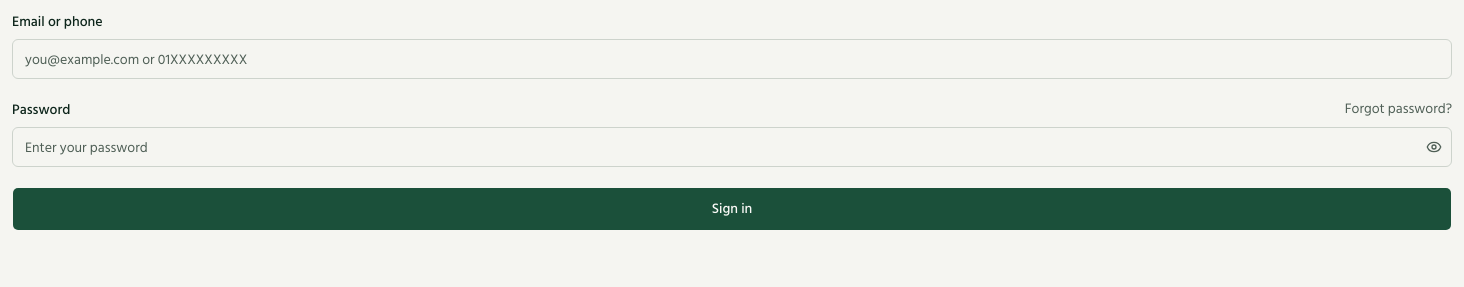
Scenario: LoginForm › shows the message for ACCOUNT_PENDING
Type "01712345678" into the field labelled "Email or phone" at (732, 59), box [12,39,1452,79]
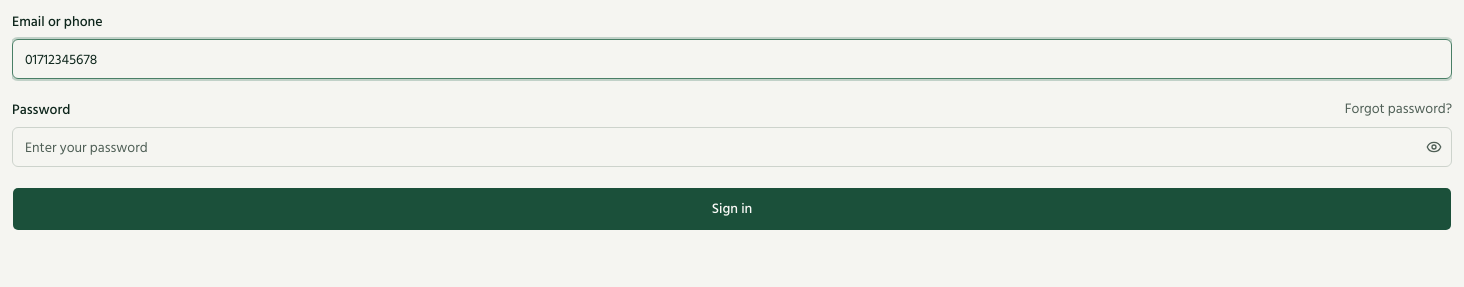
Type "secret" into the password field labelled "Password" at (716, 147), box [13,127,1420,167]
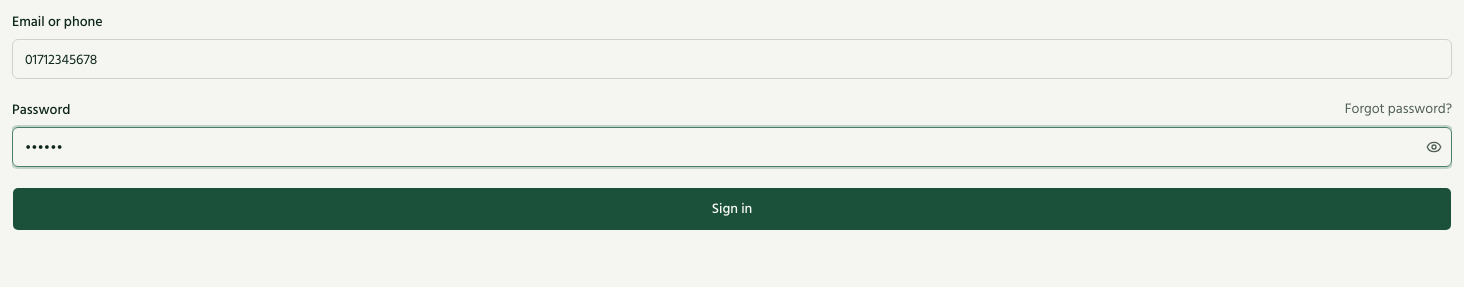
Click the button "Sign in" at (732, 209), box [12,187,1452,231]
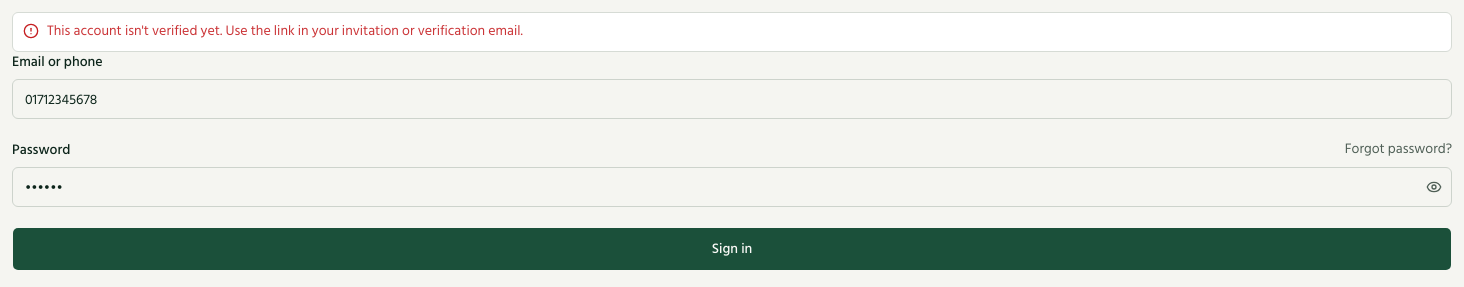
Now the message shows "This account isn't verified yet. Use the link in your invitation or verification email.", box [47,19,523,42]
